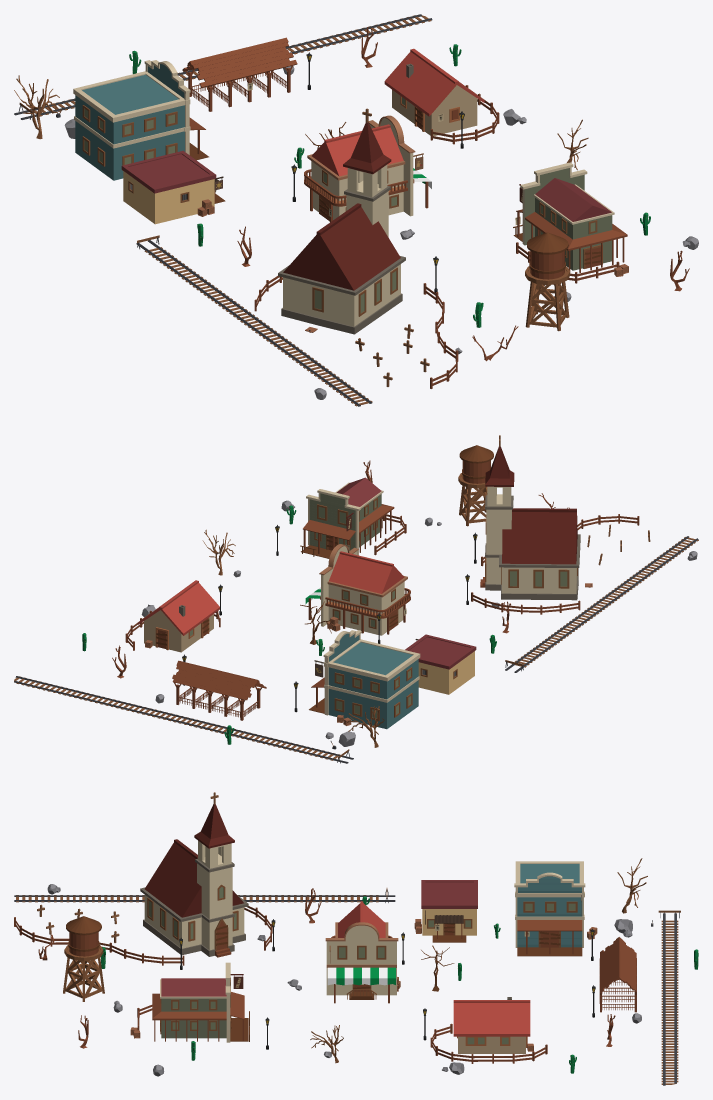
The model's file is Gebäude.fbx.
3 views of the same model, one above another, from view 1: azimuth 30°, elevation 25°; view 2: azimuth 150°, elevation 25°; view 3: azimuth 270°, elevation 25° (orthographic). The views are drawn at different scales.
Visible parts, largest first — view 1: Korpus; view 2: Korpus; view 3: Korpus.
Part boxes in pixels (<box>): Korpus: <box>14,14,698,406</box>; Korpus: <box>14,435,698,763</box>; Korpus: <box>14,792,698,1085</box>.
Bounding box in the file's own units: 4302 × 1644 × 6299.
